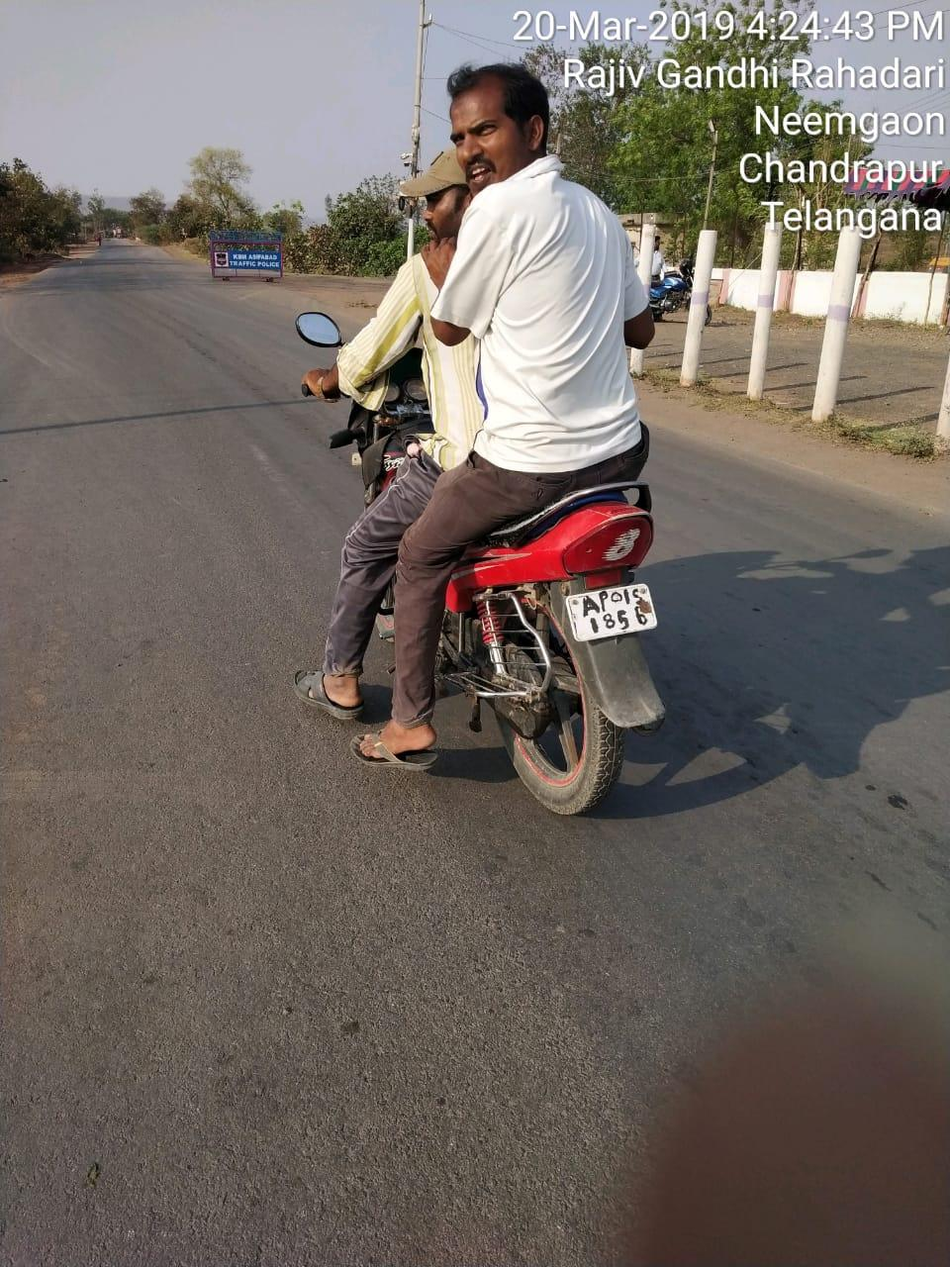plate: (555, 576, 674, 644)
